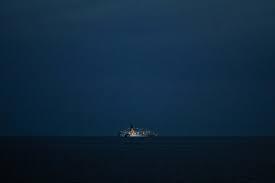boat: (118, 124, 159, 141)
